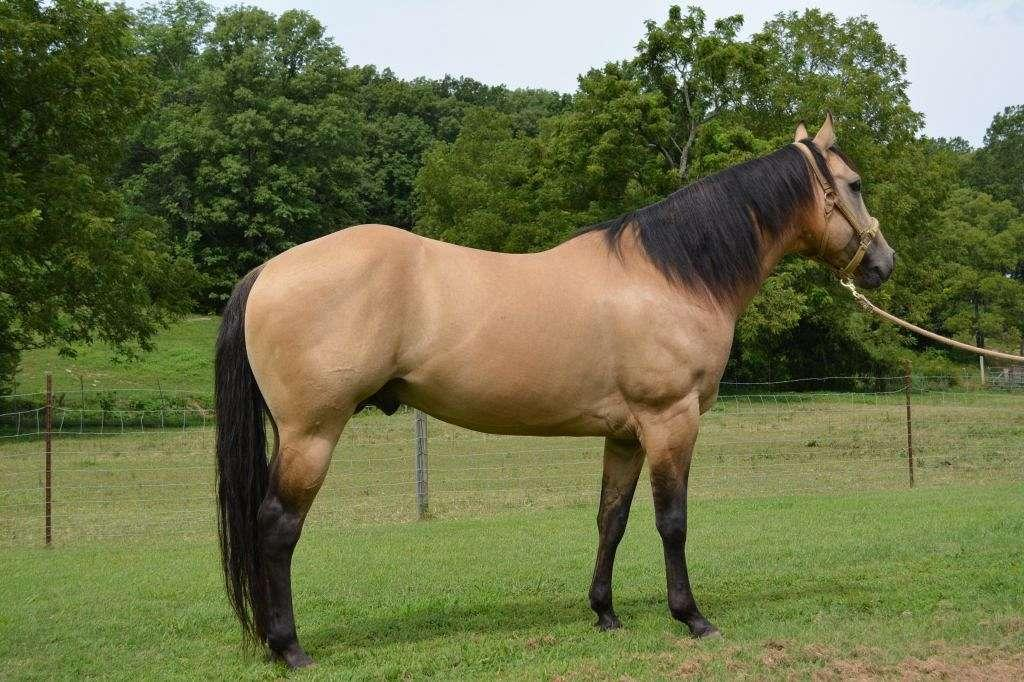horse: (198, 113, 904, 682)
